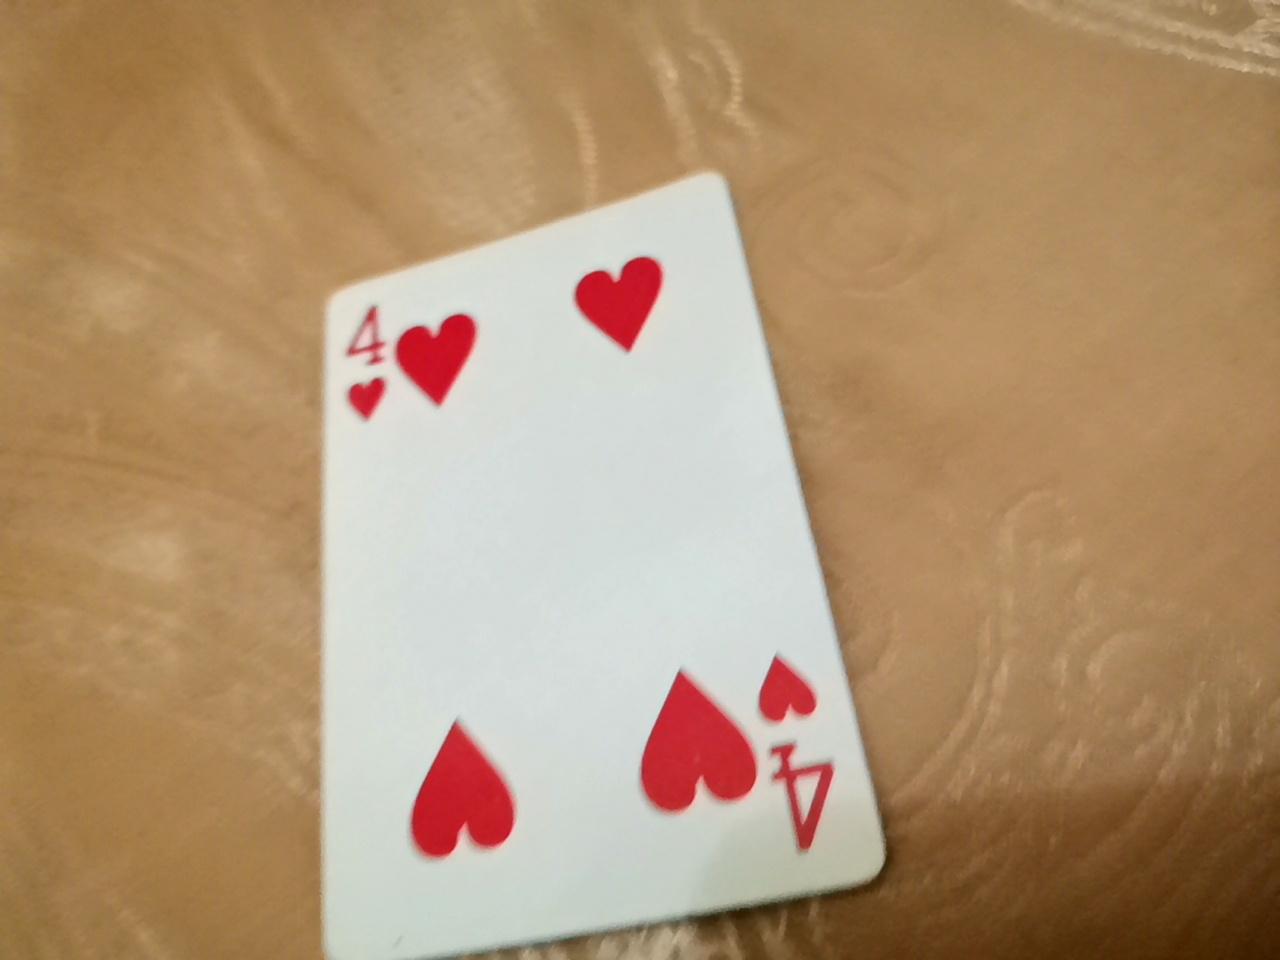hx 4: (262, 43, 855, 913)
